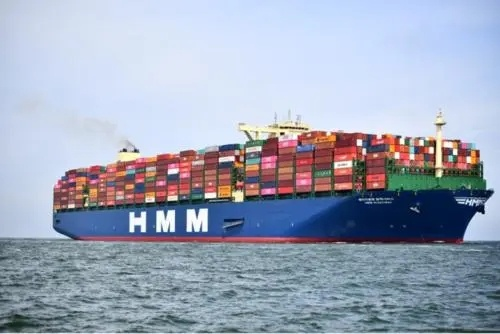Cargoship: (41, 103, 491, 239)
